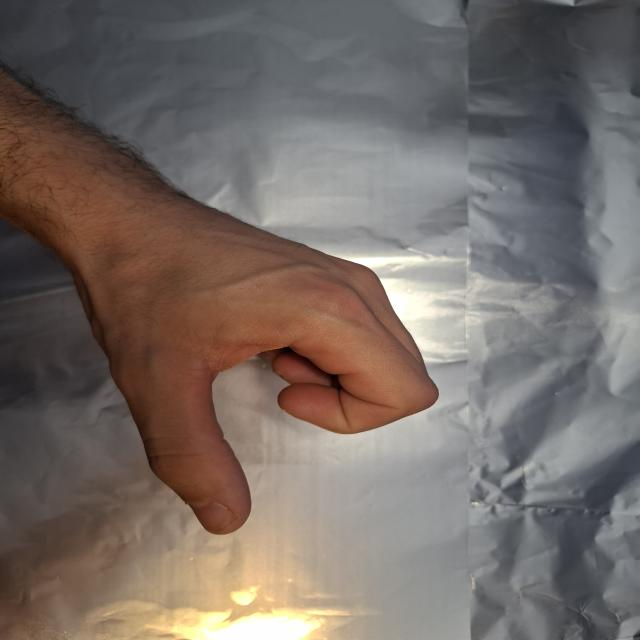glove_off: (42, 181, 442, 538)
